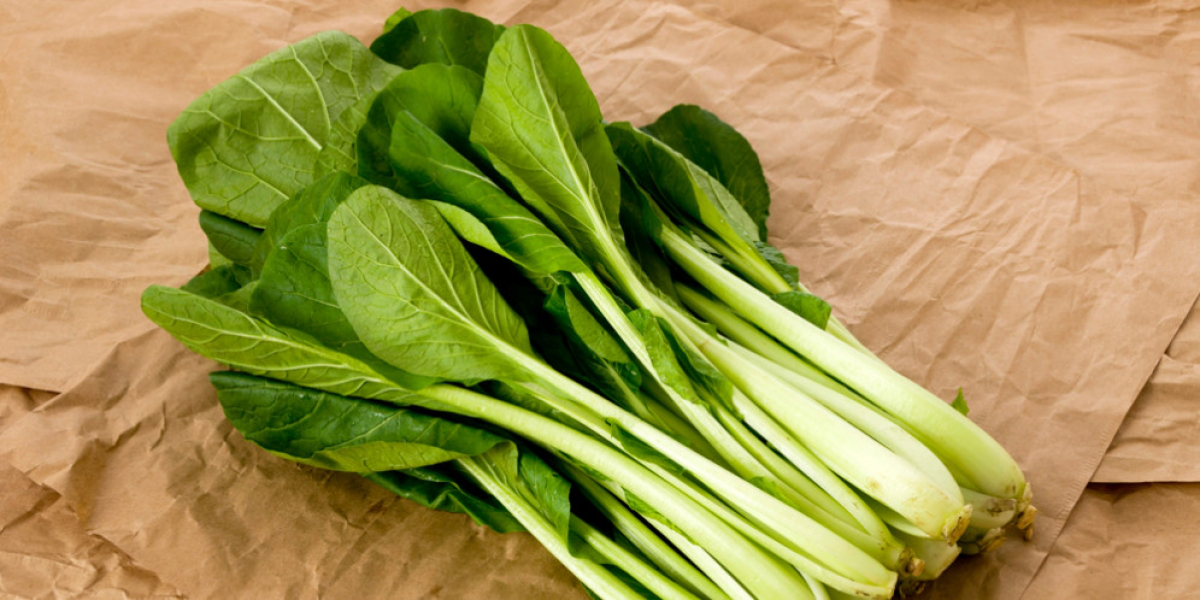Sawi: (146, 11, 1084, 600)
